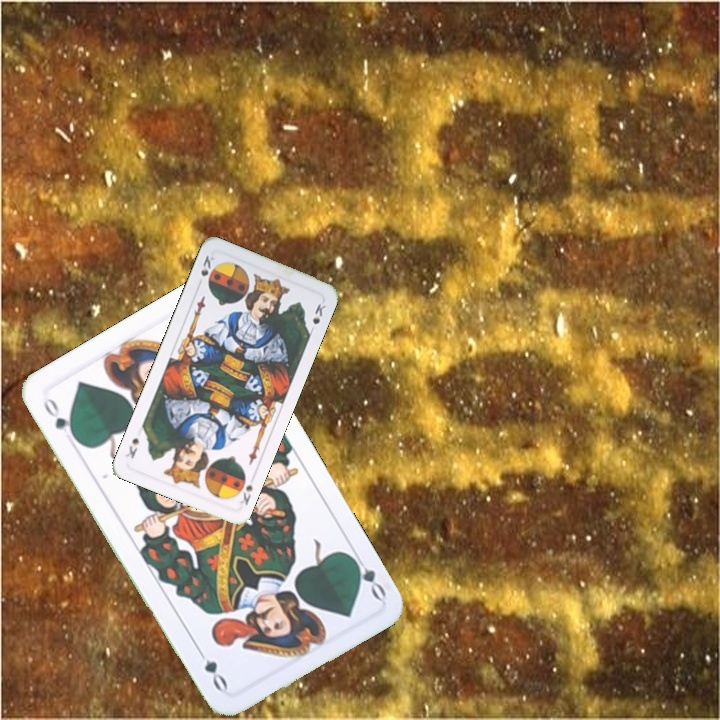GO: (345, 547, 389, 603), (39, 394, 80, 444)
SK: (235, 481, 256, 508), (197, 251, 217, 279)
